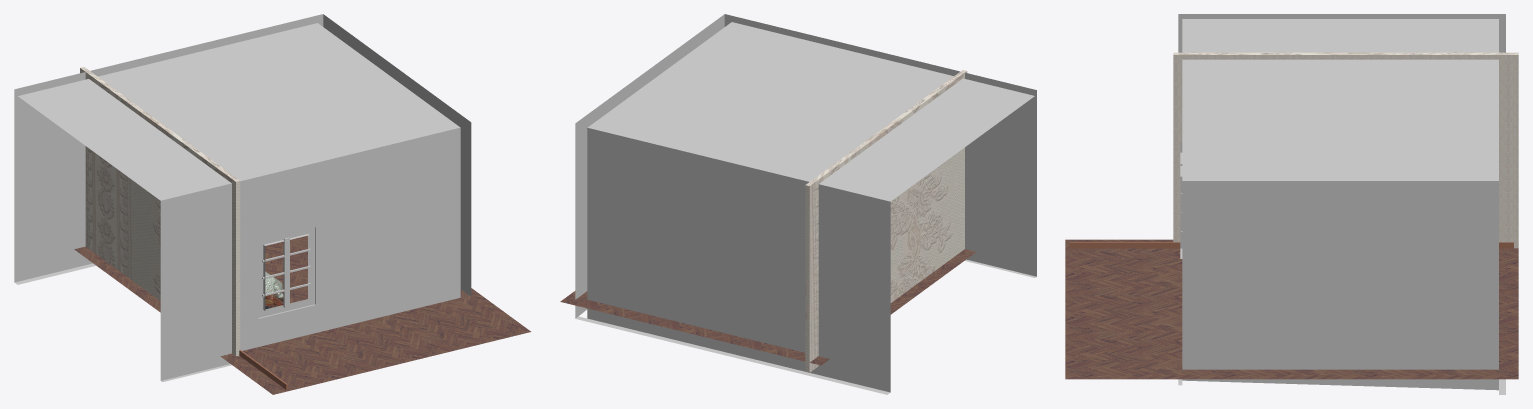
File: reveil.glb
3 views of the same model, side by side, from view 1: azimuth 30°, elevation 25°; view 2: azimuth 150°, elevation 25°; view 3: azimuth 270°, elevation 25° (orthographic). The views are drawn at different scales.
Visible parts, largest first — view 1: Plane.007, parquet, Plane.001, Plane.008, Cube.022; view 2: Plane.007, Plane.001, parquet; view 3: Plane.007, parquet, Plane.001, Cube.003.
Part boxes in pixels (box(x1,y1,x2,y2)): Plane.007: box(14, 14, 471, 382); parquet: box(74, 235, 530, 394); Plane.001: box(80, 67, 240, 356); Plane.008: box(258, 227, 315, 318); Cube.022: box(283, 237, 289, 307); Plane.007: box(575, 14, 1036, 394); Plane.001: box(805, 70, 967, 372); parquet: box(560, 249, 975, 365); Plane.007: box(1178, 14, 1505, 394); parquet: box(1065, 239, 1518, 379); Plane.001: box(1173, 52, 1518, 248); Cube.003: box(1069, 242, 1513, 248).
Size of the model in its own units: 25.47 by 14.78 by 28.36.
53 materials, 9 textured.
